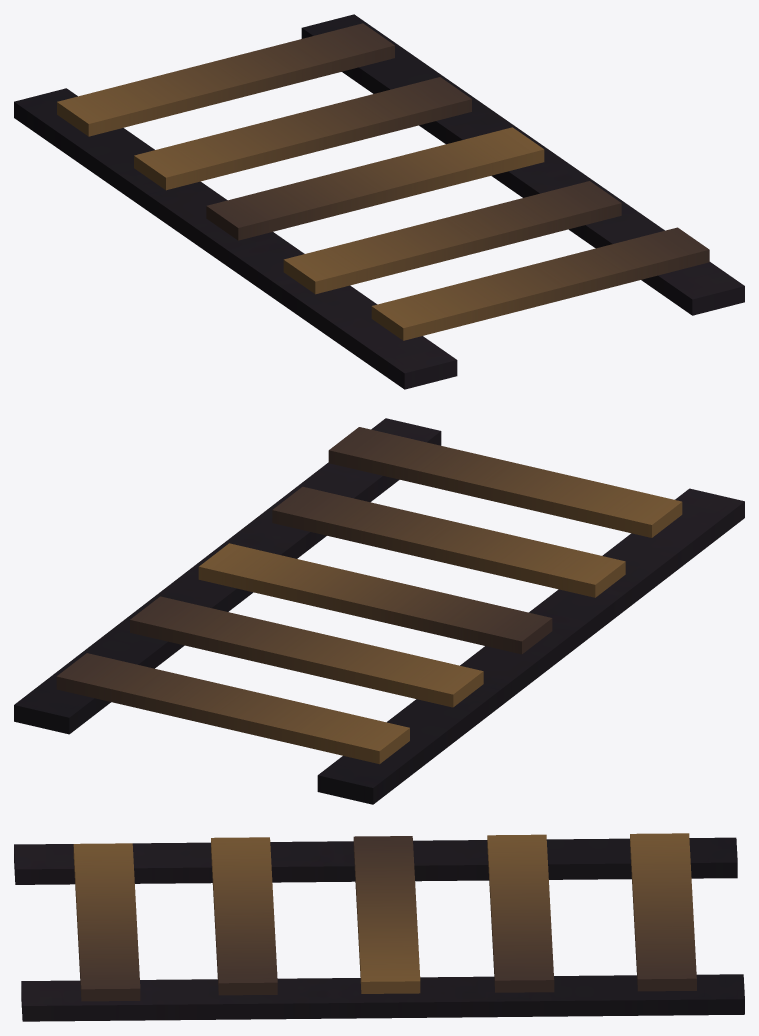
Rendered from stairs.fbx.
The picture shows the model from 3 angles, top to bottom: view 1: azimuth 30°, elevation 25°; view 2: azimuth 150°, elevation 25°; view 3: azimuth 270°, elevation 25°; orthographic projection. The views are drawn at different scales.
Parts seen in each view (by area): view 1: Plane; view 2: Plane; view 3: Plane.
Part boxes in pixels (bbox=[...]): Plane: bbox=[14, 14, 744, 389]; Plane: bbox=[14, 418, 744, 804]; Plane: bbox=[14, 833, 744, 1021].
Bounding box in the file's own units: 889 × 74.19 × 1631.
